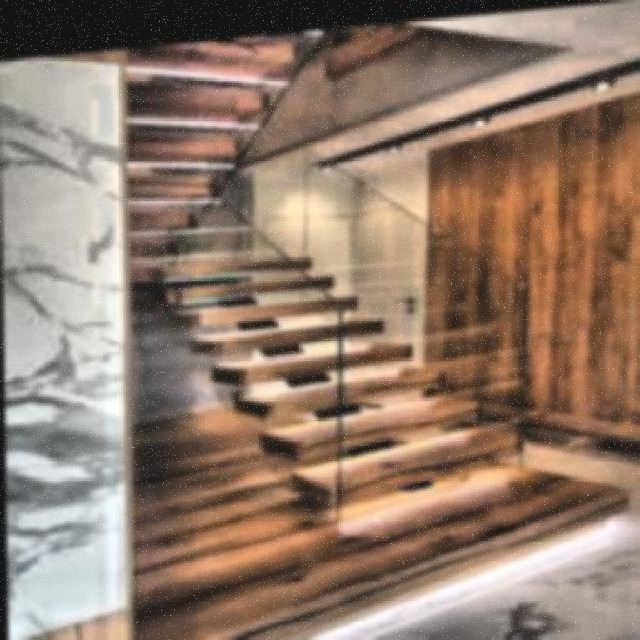stair: (165, 226, 572, 531)
